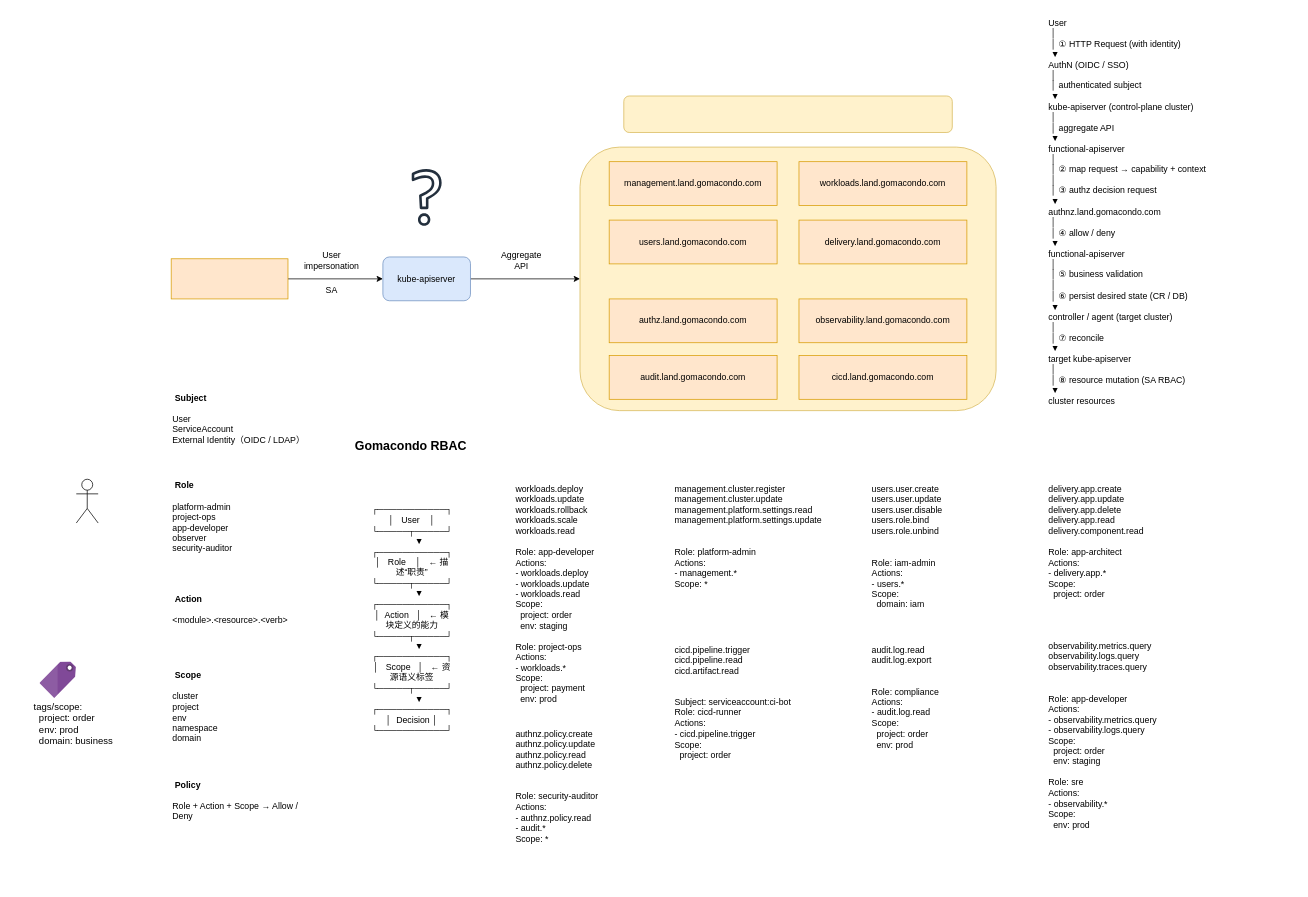
The diagram is 1308 pixels wide and 897 high, and some of its shapes have lost their labels. The box of each missing label's shape, as (x1, y1, x2, y2) in pixels:
authn.land.gomacondo.com: (170, 258, 288, 299)
Capabilities: (623, 95, 952, 132)
Engineering, PlatformAdmin, SRE, QA: (76, 479, 98, 523)
Gomacondo RBAC enforce the AuthZ process: (579, 146, 996, 411)
Who: (411, 169, 441, 226)
